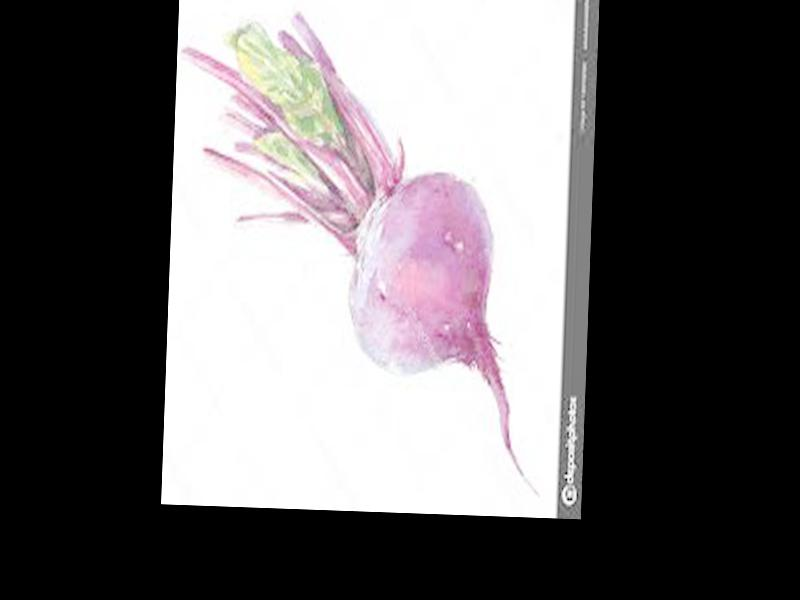Beet: (165, 8, 555, 494)
